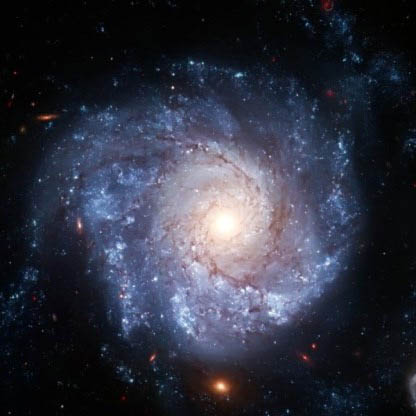NGC 1309: (27, 56, 386, 399)
